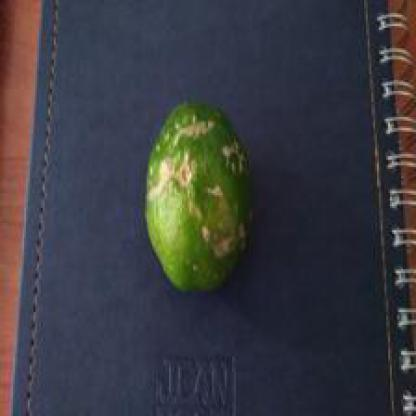orange_rotten: (112, 70, 308, 336)
